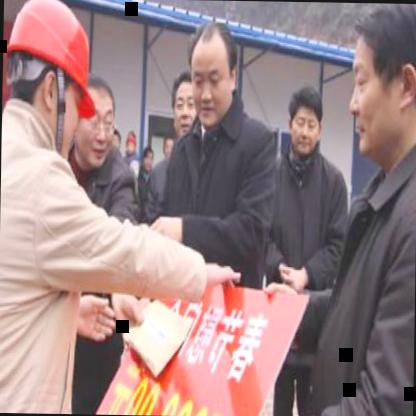helmet: (0, 0, 105, 162)
